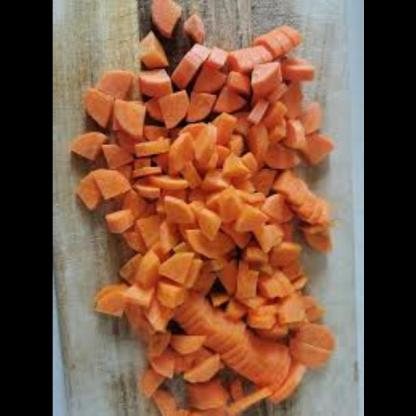carrot: (81, 14, 323, 405)
